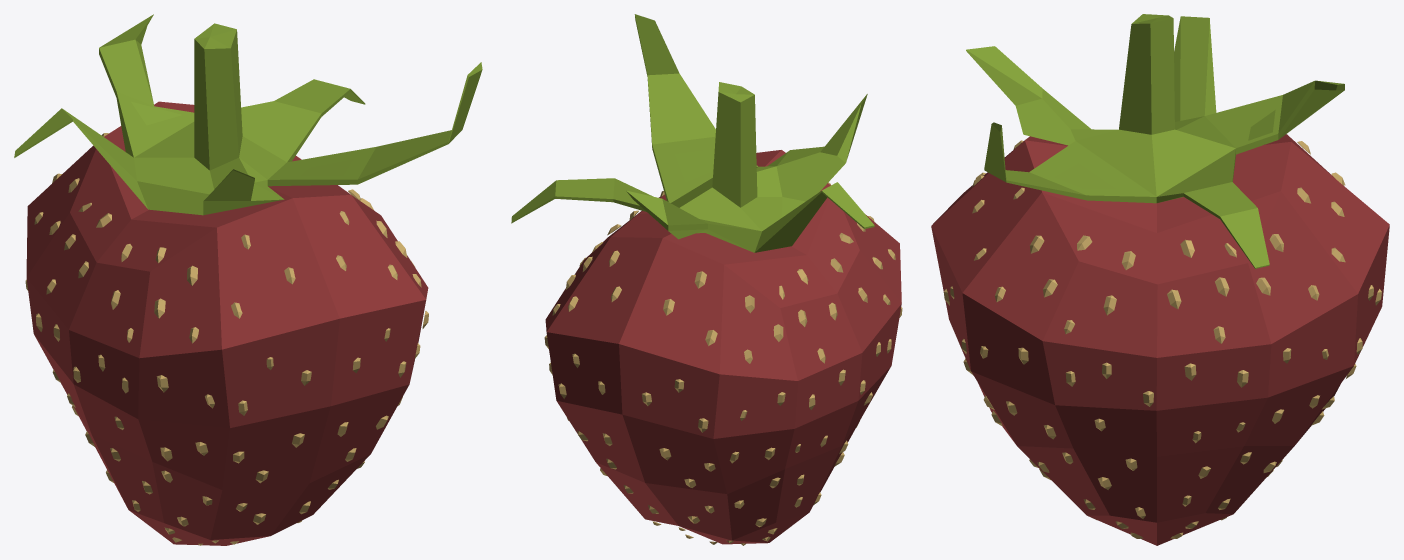
Rendered from Fresa.fbx.
3 views of the same model, side by side, from view 1: azimuth 30°, elevation 25°; view 2: azimuth 150°, elevation 25°; view 3: azimuth 270°, elevation 25° (orthographic). The views are drawn at different scales.
Parts seen in each view (by area): view 1: Fresa, hoja, pSphere75, pSphere73; view 2: Fresa, hoja, pSphere75, pSphere73; view 3: Fresa, hoja, pSphere73.
Boxes of the visible parts, box(x1,y1,x2,y2) form: Fresa: box(26, 101, 428, 545); hoja: box(14, 14, 482, 215); pSphere75: box(25, 133, 311, 545); pSphere73: box(297, 189, 428, 522); Fresa: box(545, 150, 901, 544); hoja: box(511, 14, 874, 252); pSphere75: box(641, 182, 902, 545); pSphere73: box(544, 191, 693, 538); Fresa: box(931, 134, 1389, 545); hoja: box(966, 14, 1344, 268); pSphere73: box(943, 187, 1381, 538).
Bounding box in the file's own units: 1.13 × 1.48 × 1.19.
